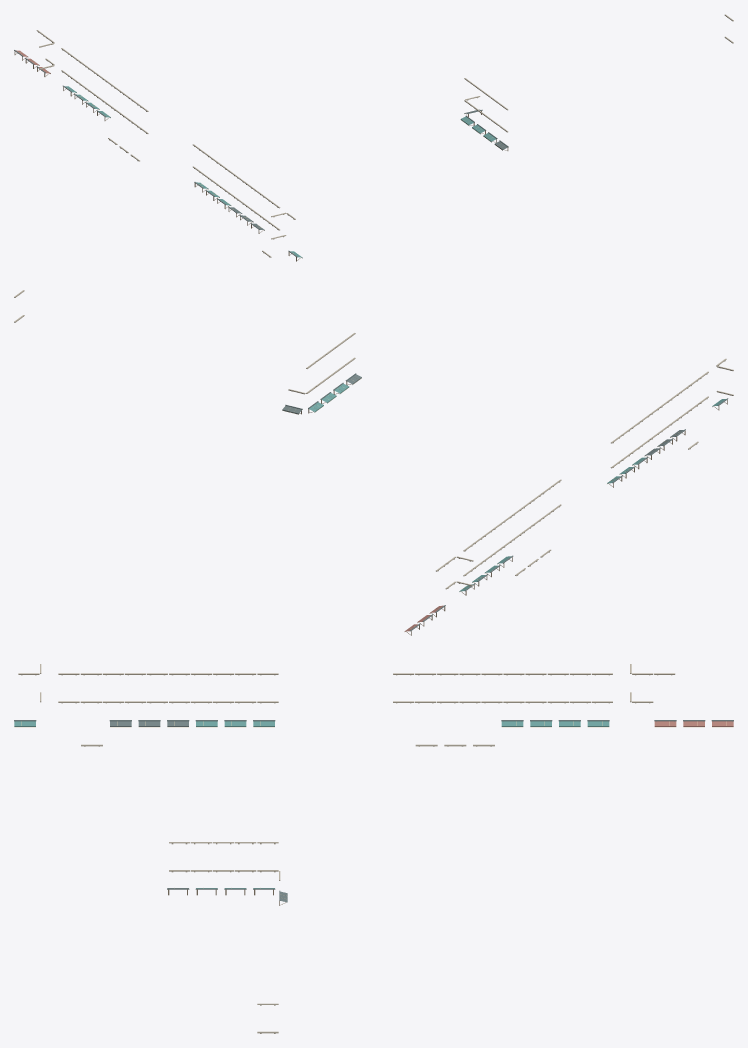
Rendered from boutique.glb.
The picture shows the model from 3 angles, top to bottom: view 1: azimuth 30°, elevation 25°; view 2: azimuth 150°, elevation 25°; view 3: azimuth 270°, elevation 25°; orthographic projection. The views are drawn at different scales.
Visible parts, largest first — view 1: stone, enamel, canvas; view 2: stone, enamel, canvas; view 3: stone, enamel, canvas.
Part boxes in pixels (bbox=[...]): stone: bbox=[36, 14, 733, 257]; enamel: bbox=[14, 50, 508, 257]; canvas: bbox=[65, 86, 496, 257]; stone: bbox=[14, 290, 733, 589]; enamel: bbox=[282, 373, 728, 631]; canvas: bbox=[309, 383, 725, 591]; stone: bbox=[18, 664, 675, 1033]; enamel: bbox=[14, 720, 733, 902]; canvas: bbox=[14, 721, 609, 888].
Bounding box in the file's own units: 84.21 × 8.42 × 75.33.
